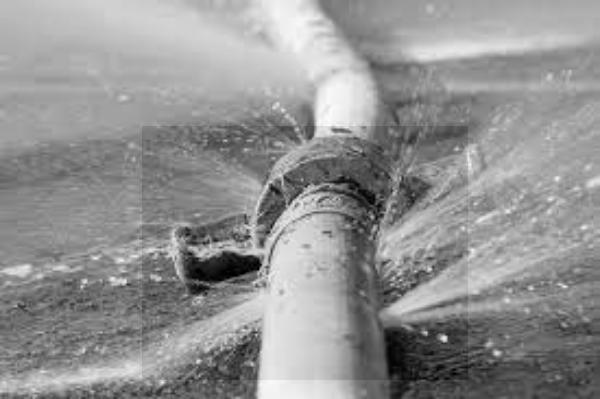water: (142, 126, 468, 380)
